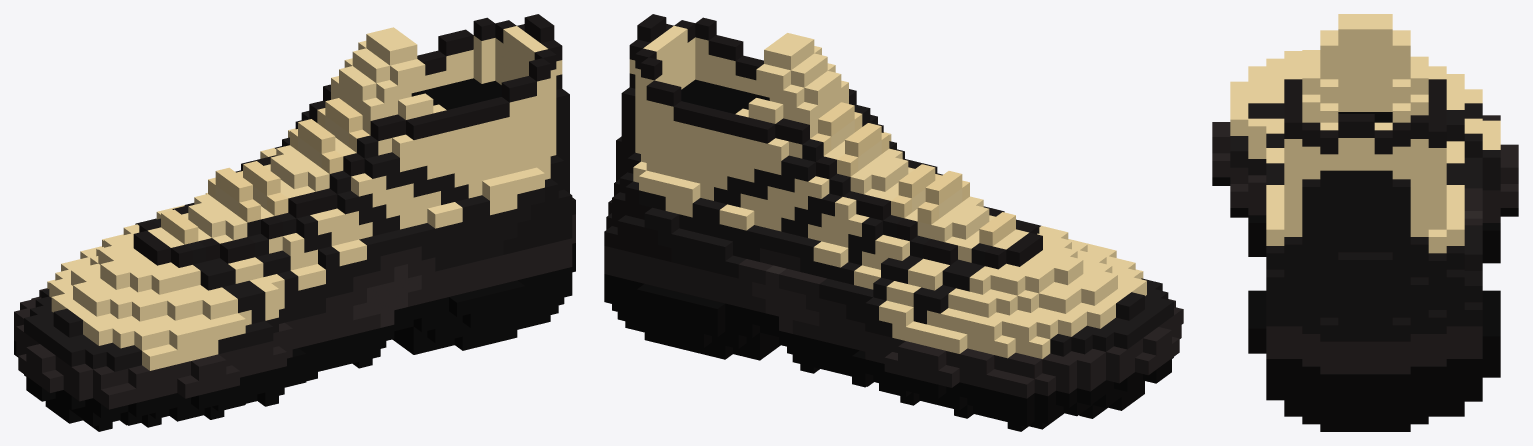
The model's file is Bone Meal.fbx.
3 renders of one model, left to right at view 1: azimuth 30°, elevation 25°; view 2: azimuth 150°, elevation 25°; view 3: azimuth 270°, elevation 25°, orthographic. The views are drawn at different scales.
Parts seen in each view (by area): view 1: Untitled; view 2: Untitled; view 3: Untitled.
Boxes of the visible parts, bbox=[...] form: Untitled: bbox=[14, 14, 575, 431]; Untitled: bbox=[604, 14, 1183, 431]; Untitled: bbox=[1212, 14, 1518, 431].
Size of the model in its own units: 390 by 200 by 170.
